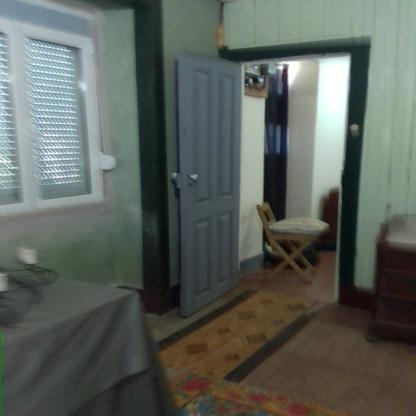open: (160, 30, 385, 332)
